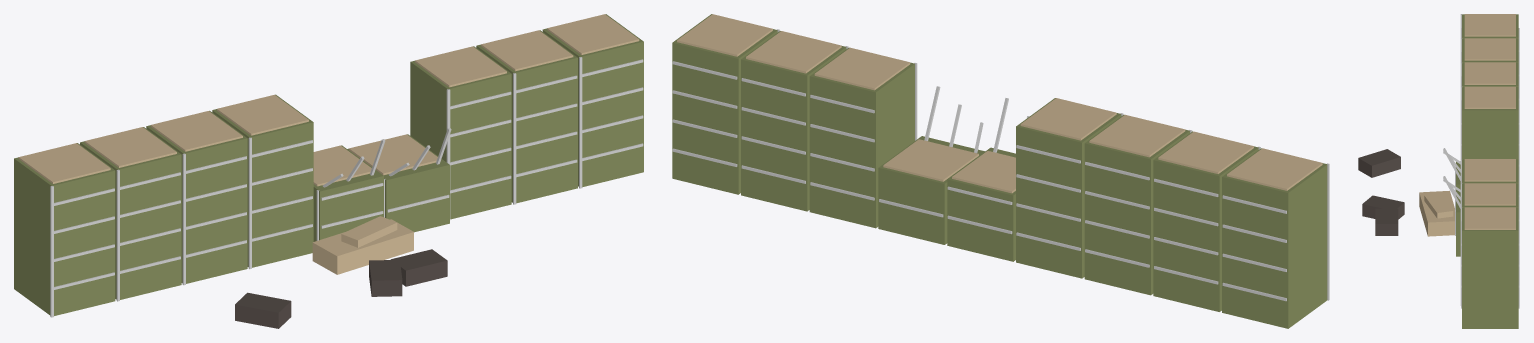
The model's file is SM_MuroHesco_v0_MallaLimpia_e1_Danado_LOD0.fbx.
3 renders of one model, left to right at view 1: azimuth 30°, elevation 25°; view 2: azimuth 150°, elevation 25°; view 3: azimuth 270°, elevation 25°, orthographic. The views are drawn at different scales.
Parts seen in each view (by area): view 1: SM_bloques.muro_hesco_estados_v1_LOD0; view 2: SM_bloques.muro_hesco_estados_v1_LOD0; view 3: SM_bloques.muro_hesco_estados_v1_LOD0.
Boxes of the visible parts, x1,y1,x2,y2 form: SM_bloques.muro_hesco_estados_v1_LOD0: (14, 14, 643, 328); SM_bloques.muro_hesco_estados_v1_LOD0: (672, 14, 1329, 328); SM_bloques.muro_hesco_estados_v1_LOD0: (1358, 14, 1519, 328).
Bounding box in the file's own units: 9.98 × 2.13 × 3.14.
